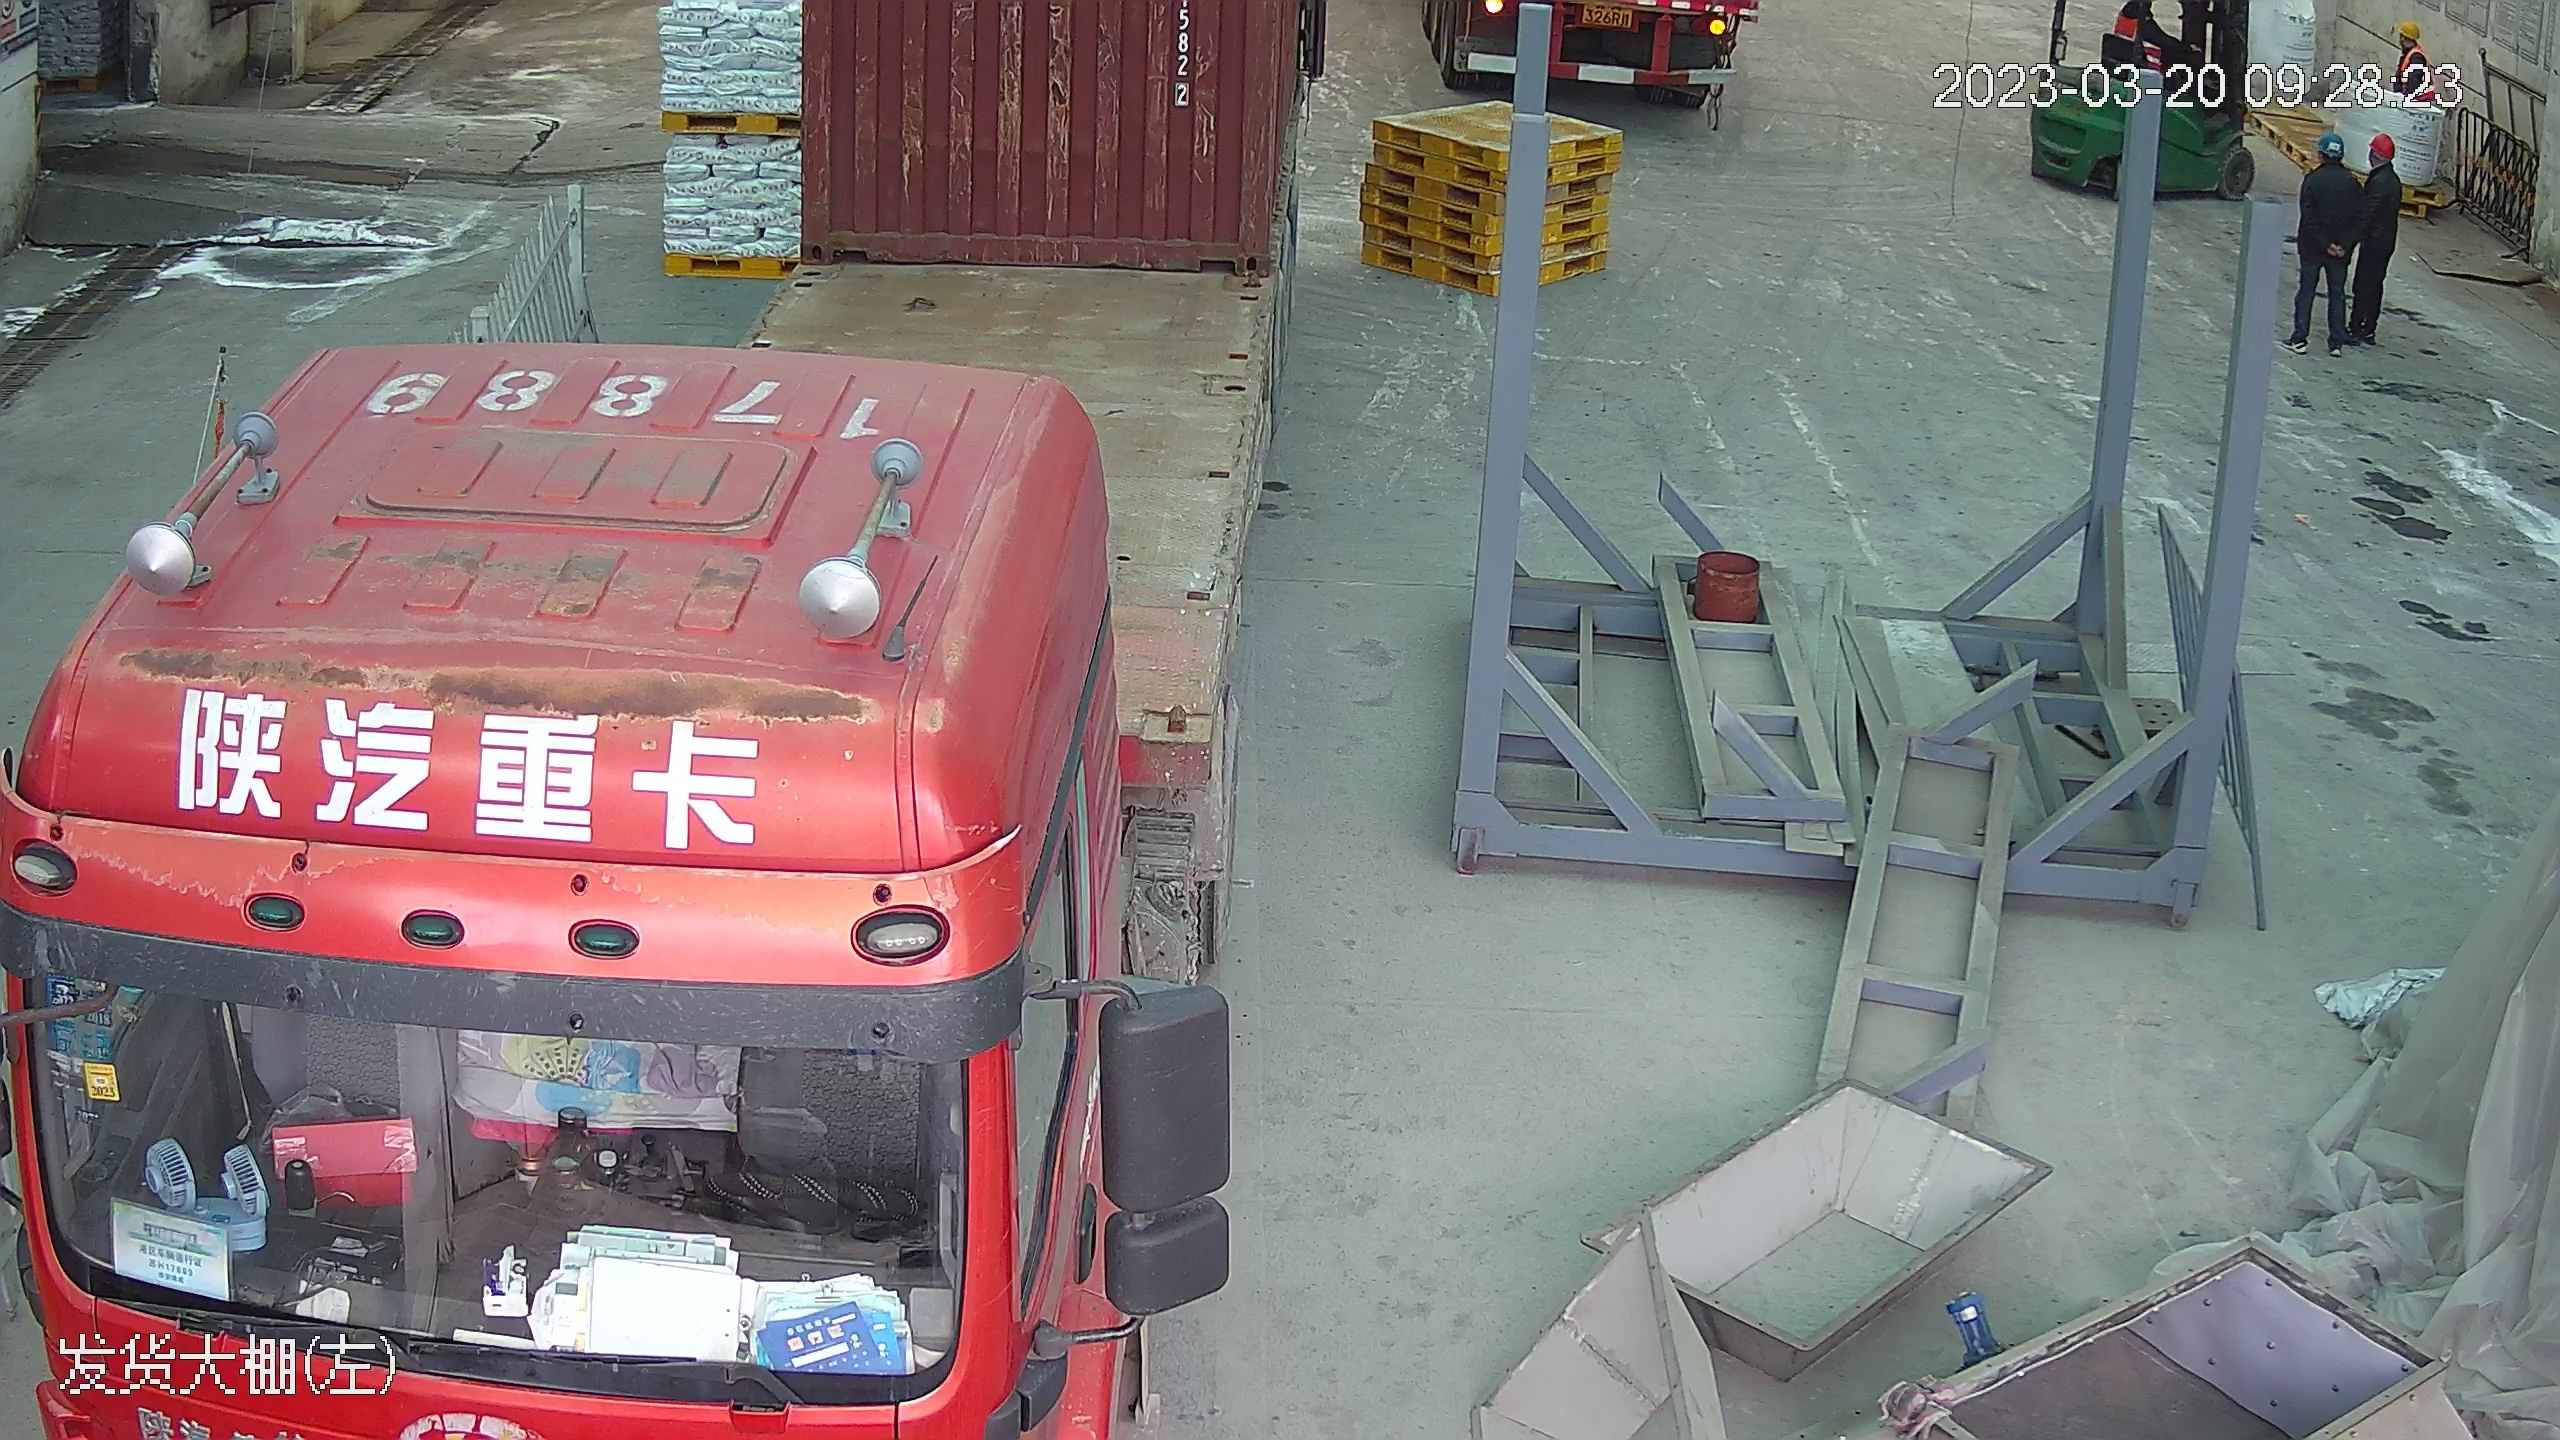head: (2307, 134, 2368, 201), (2346, 132, 2404, 199), (2393, 18, 2439, 75)
helmet: (2317, 132, 2345, 160), (2364, 131, 2395, 155), (2397, 18, 2423, 38)
people: (2287, 126, 2365, 343), (2334, 128, 2406, 348)
truck: (9, 1, 1288, 1440)
